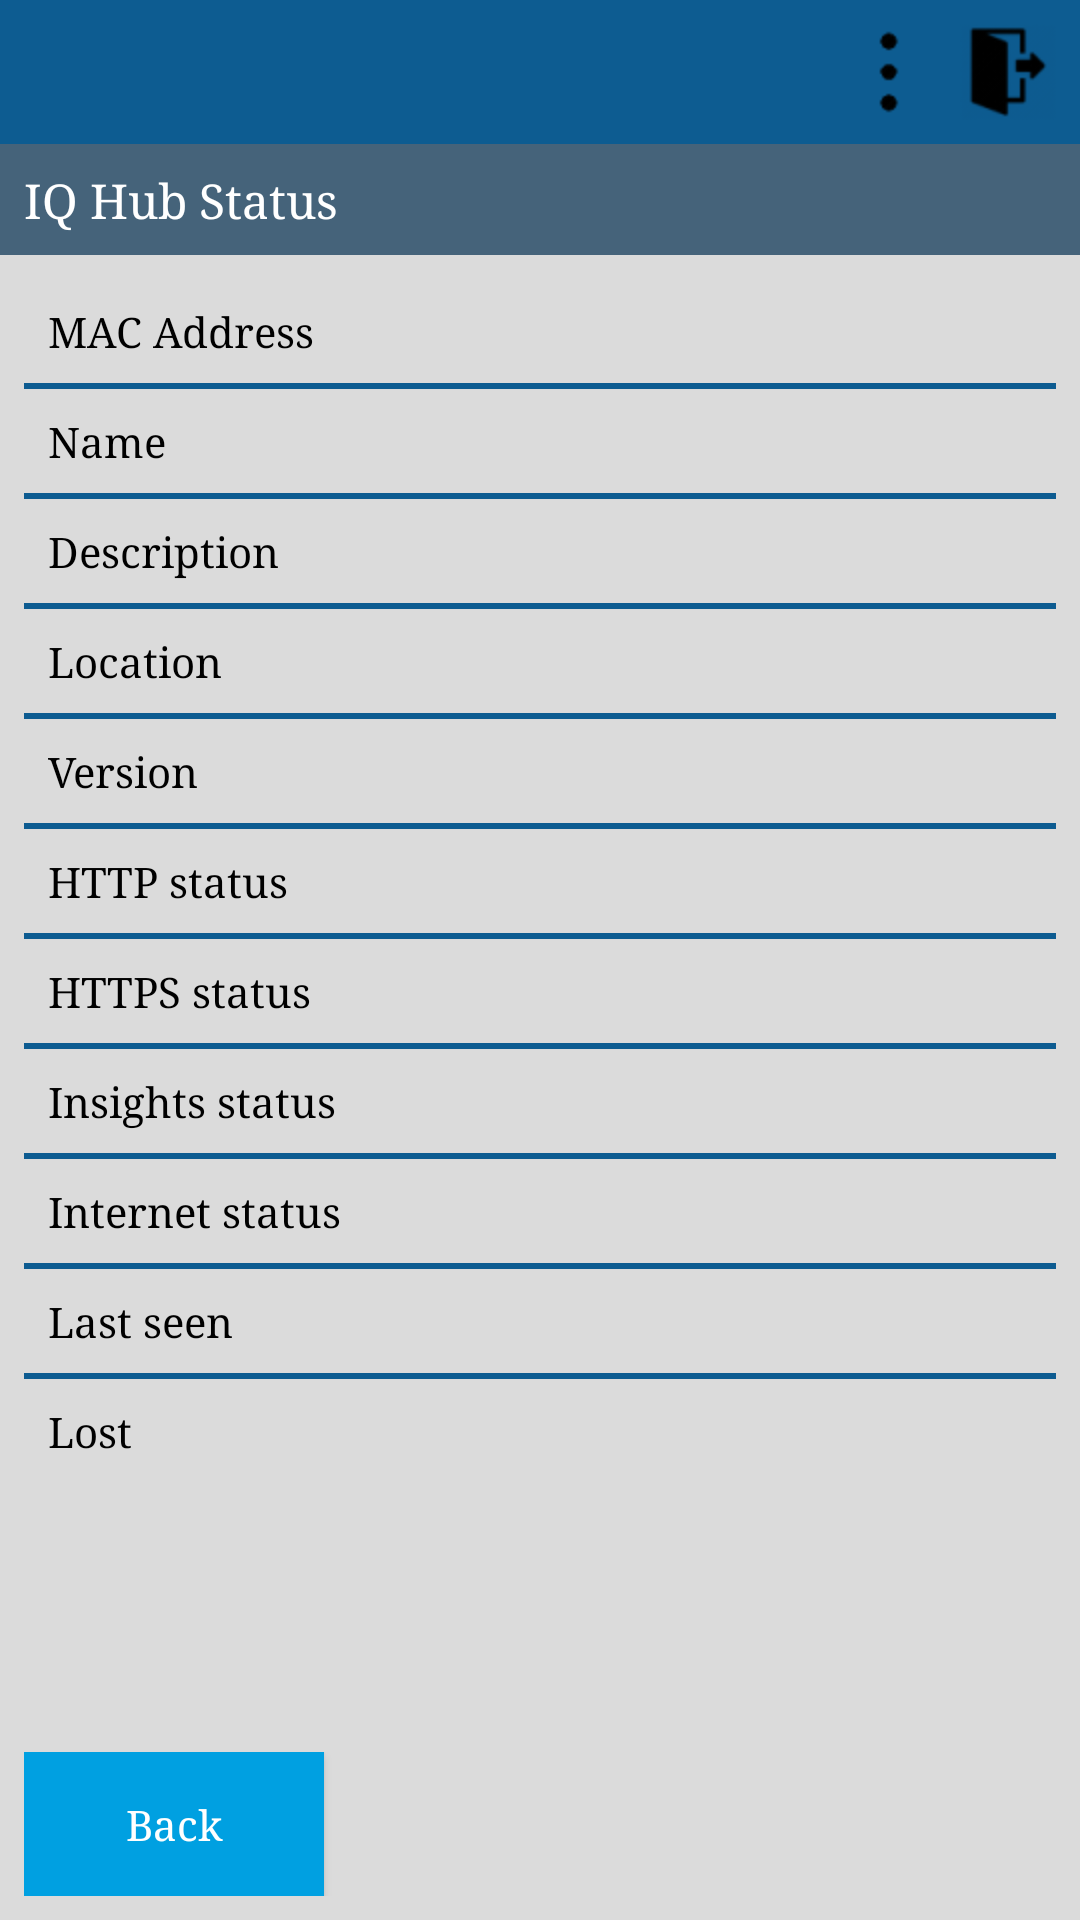

Icons on this 1080px x 1920px Android screen, each with its box as bbox=(x1, y1, x2, y2):
exit: bbox=(970, 28, 1046, 116)
